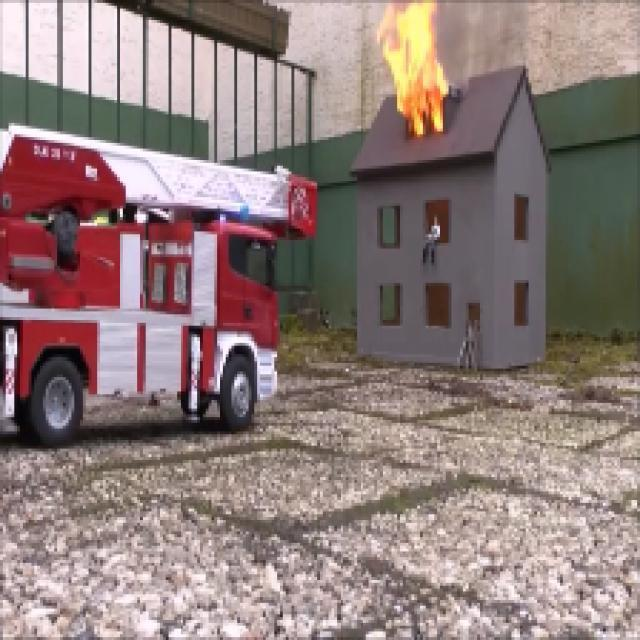Fire: (378, 5, 454, 136)
